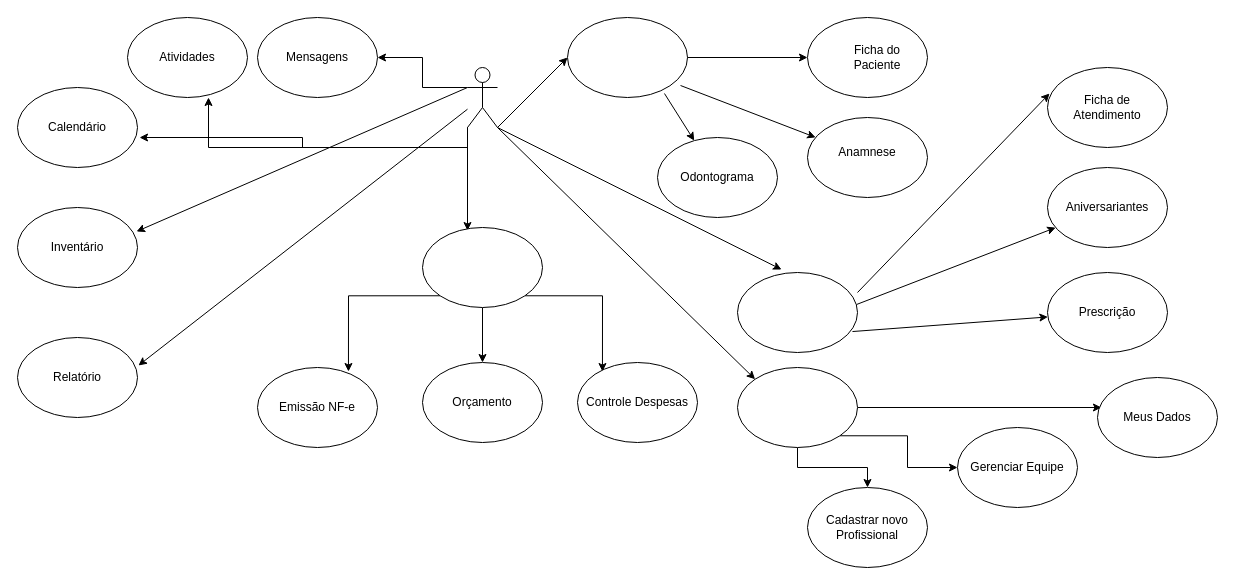
Image size: 1235x585. Some labels were removed from this diagram. The centre of each missing label's shape, as x and y in pixels:
Actor: [482,97]
Atendimento: [797,312]
Financeiro: [482,267]
Usuário: [797,407]
Área do Paciente: [627,57]
